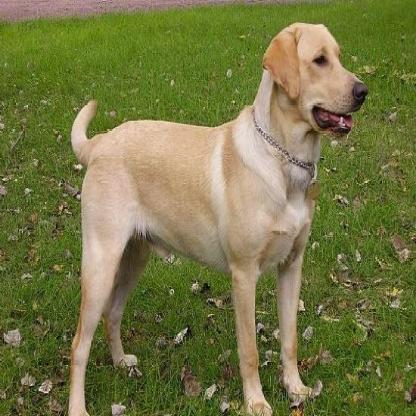dog: (66, 22, 368, 416)
